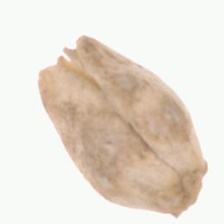L1: (37, 35, 101, 87), (169, 161, 209, 218)
L2: (38, 35, 208, 218)
